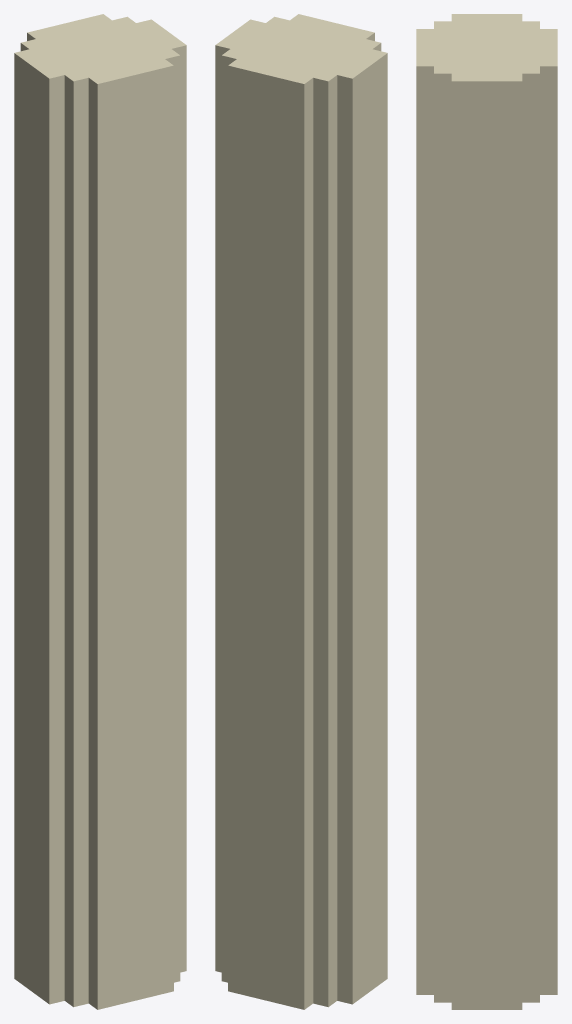
Rendered from factory4.5-17.obj.
3 views of the same model, side by side, from view 1: azimuth 30°, elevation 25°; view 2: azimuth 150°, elevation 25°; view 3: azimuth 270°, elevation 25° (orthographic).
Bounding box in the file's own units: 0.9 × 5.8 × 0.8.
Materials: 1 (1 with a texture image).
